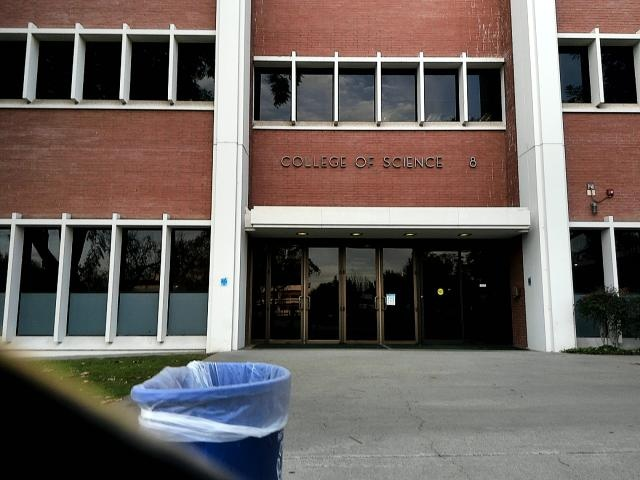trashcan_open: (133, 358, 293, 480)
